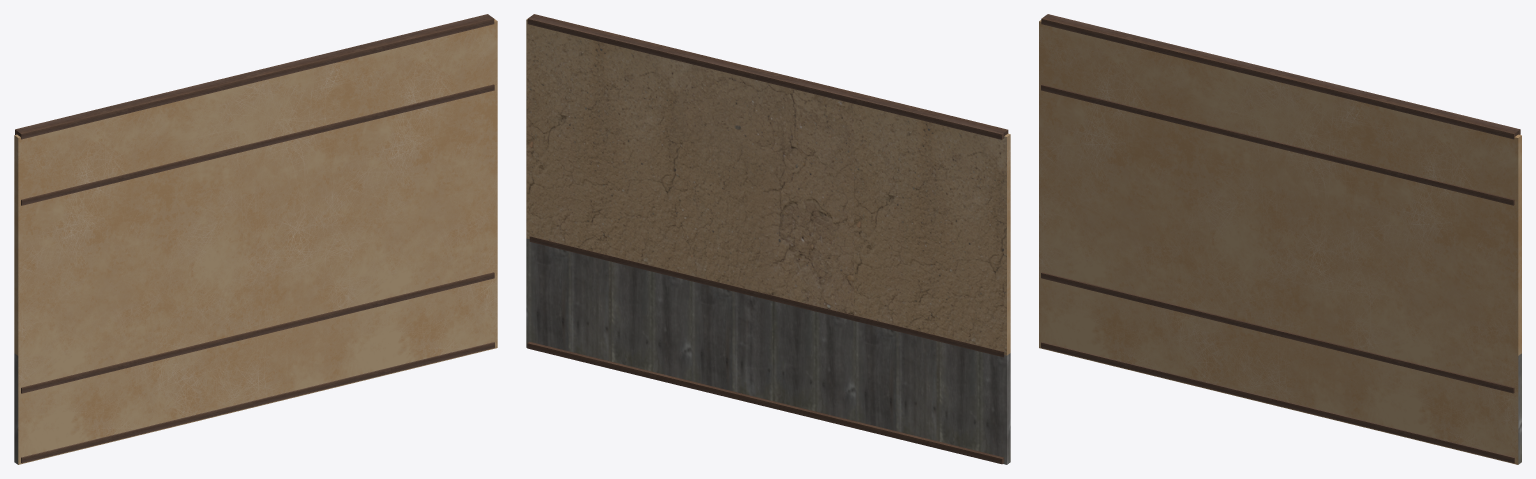
The model's file is outwall02_2t.fbx.
3 views of the same model, side by side, from view 1: azimuth 30°, elevation 25°; view 2: azimuth 150°, elevation 25°; view 3: azimuth 330°, elevation 25° (orthographic).
Visible parts, largest first — view 1: outwall02_2t; view 2: outwall02_2t; view 3: outwall02_2t.
Part boxes in pixels (x1=…): outwall02_2t: x1=14, y1=14, x2=497, y2=464; outwall02_2t: x1=526, y1=14, x2=1010, y2=464; outwall02_2t: x1=1039, y1=14, x2=1521, y2=464.
Size of the model in its own units: 440 by 290 by 11.05.
